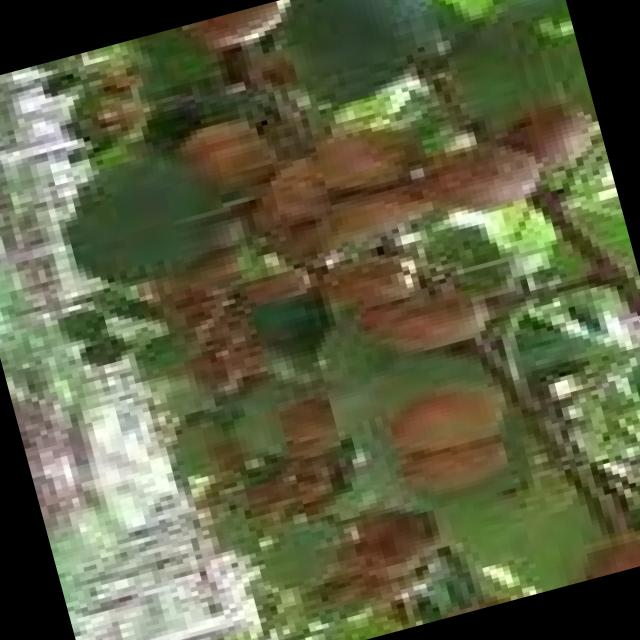kivi: (360, 290, 489, 351), (420, 146, 538, 209), (177, 120, 276, 192), (392, 390, 501, 452), (313, 130, 422, 190), (250, 158, 330, 231), (329, 186, 432, 242), (498, 106, 588, 167), (403, 440, 506, 489), (321, 257, 417, 309), (193, 0, 281, 48), (589, 536, 640, 579)
